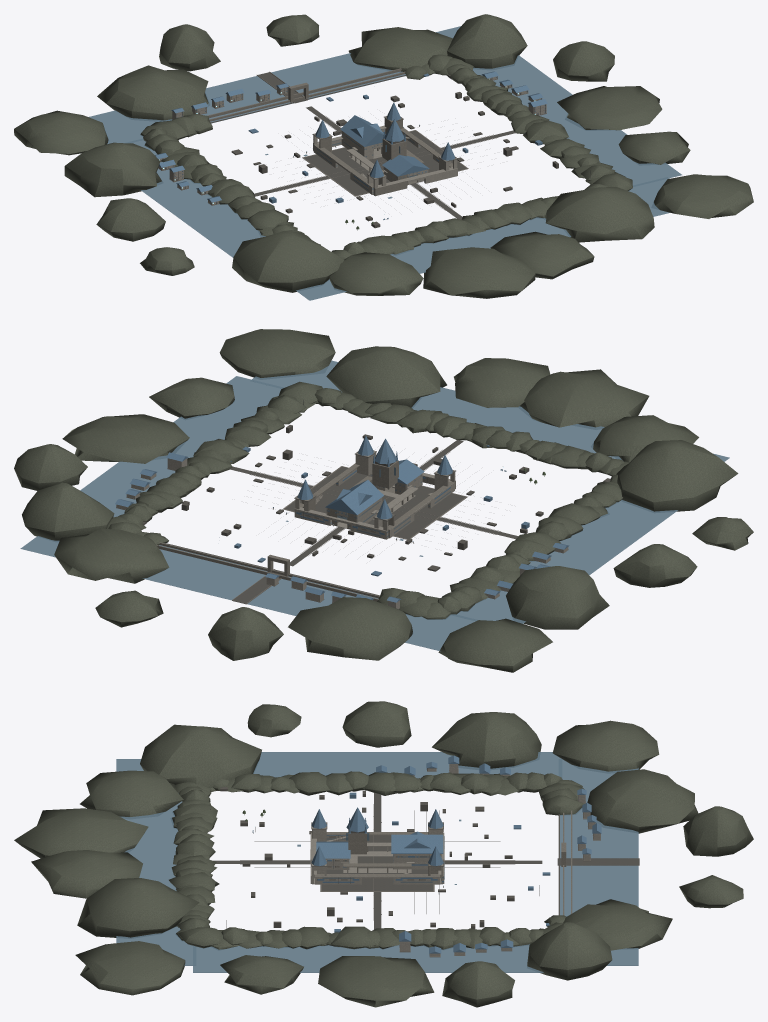
Rendered from takadai-lod1.glb.
3 renders of one model, top to bottom at view 1: azimuth 30°, elevation 25°; view 2: azimuth 150°, elevation 25°; view 3: azimuth 270°, elevation 25°, orthographic. The views are drawn at different scales.
Visible parts, largest first — view 1: HB_takadai_LOD1_terrain, HB_takadai_LOD1_water, HB_takadai_LOD1_accent, HB_takadai_LOD1_wall_alt, HB_takadai_LOD1_wall, HB_takadai_LOD1_road, HB_takadai_LOD1_obstacle, HB_takadai_LOD1_trim; view 2: HB_takadai_LOD1_terrain, HB_takadai_LOD1_water, HB_takadai_LOD1_wall_alt, HB_takadai_LOD1_accent, HB_takadai_LOD1_wall, HB_takadai_LOD1_road, HB_takadai_LOD1_obstacle; view 3: HB_takadai_LOD1_terrain, HB_takadai_LOD1_water, HB_takadai_LOD1_accent, HB_takadai_LOD1_wall, HB_takadai_LOD1_road, HB_takadai_LOD1_wall_alt, HB_takadai_LOD1_obstacle, HB_takadai_LOD1_trim.
Part boxes in pixels (bbox=[...]): HB_takadai_LOD1_terrain: bbox=[14, 14, 753, 298]; HB_takadai_LOD1_water: bbox=[88, 26, 681, 300]; HB_takadai_LOD1_accent: bbox=[155, 71, 547, 219]; HB_takadai_LOD1_wall_alt: bbox=[158, 68, 546, 210]; HB_takadai_LOD1_wall: bbox=[158, 76, 546, 204]; HB_takadai_LOD1_road: bbox=[254, 72, 516, 219]; HB_takadai_LOD1_obstacle: bbox=[231, 74, 558, 228]; HB_takadai_LOD1_trim: bbox=[160, 75, 590, 205]; HB_takadai_LOD1_terrain: bbox=[14, 329, 753, 672]; HB_takadai_LOD1_water: bbox=[20, 360, 729, 651]; HB_takadai_LOD1_wall_alt: bbox=[116, 450, 568, 604]; HB_takadai_LOD1_accent: bbox=[115, 435, 569, 602]; HB_takadai_LOD1_wall: bbox=[116, 451, 568, 609]; HB_takadai_LOD1_road: bbox=[229, 440, 518, 604]; HB_takadai_LOD1_obstacle: bbox=[142, 425, 610, 571]; HB_takadai_LOD1_terrain: bbox=[14, 701, 753, 1007]; HB_takadai_LOD1_water: bbox=[116, 752, 638, 972]; HB_takadai_LOD1_accent: bbox=[212, 755, 601, 953]; HB_takadai_LOD1_wall: bbox=[310, 764, 600, 956]; HB_takadai_LOD1_road: bbox=[213, 792, 639, 929]; HB_takadai_LOD1_wall_alt: bbox=[240, 768, 639, 957]; HB_takadai_LOD1_obstacle: bbox=[220, 787, 514, 928]; HB_takadai_LOD1_trim: bbox=[210, 768, 593, 956].
Size of the model in its own units: 628 by 56.52 by 666.
11 materials, 8 textured.
